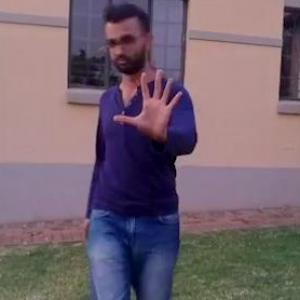follow_hand: (109, 64, 186, 144)
